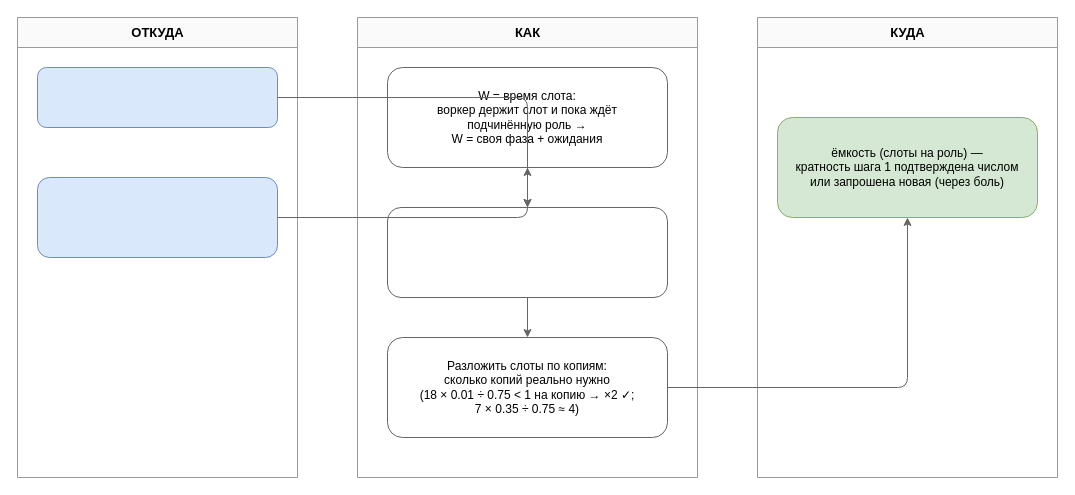
The diagram is 1075 pixels wide and 495 high, and some of its shapes have lost their labels. Here are the shapes that lost their labels. From the top down, the centre of each, then its label:
At [157,97]: "λ на роль (из П2): роль · сценарий".
At [157,217]: "Фазы (из П3 / справочник): своя фаза + ожидания подчинённых".
At [527,252]: "Слоты = λ × W ÷ 0.75 (план при загрузке ≤ 70–80 % — у порога взрывается хвост)".
